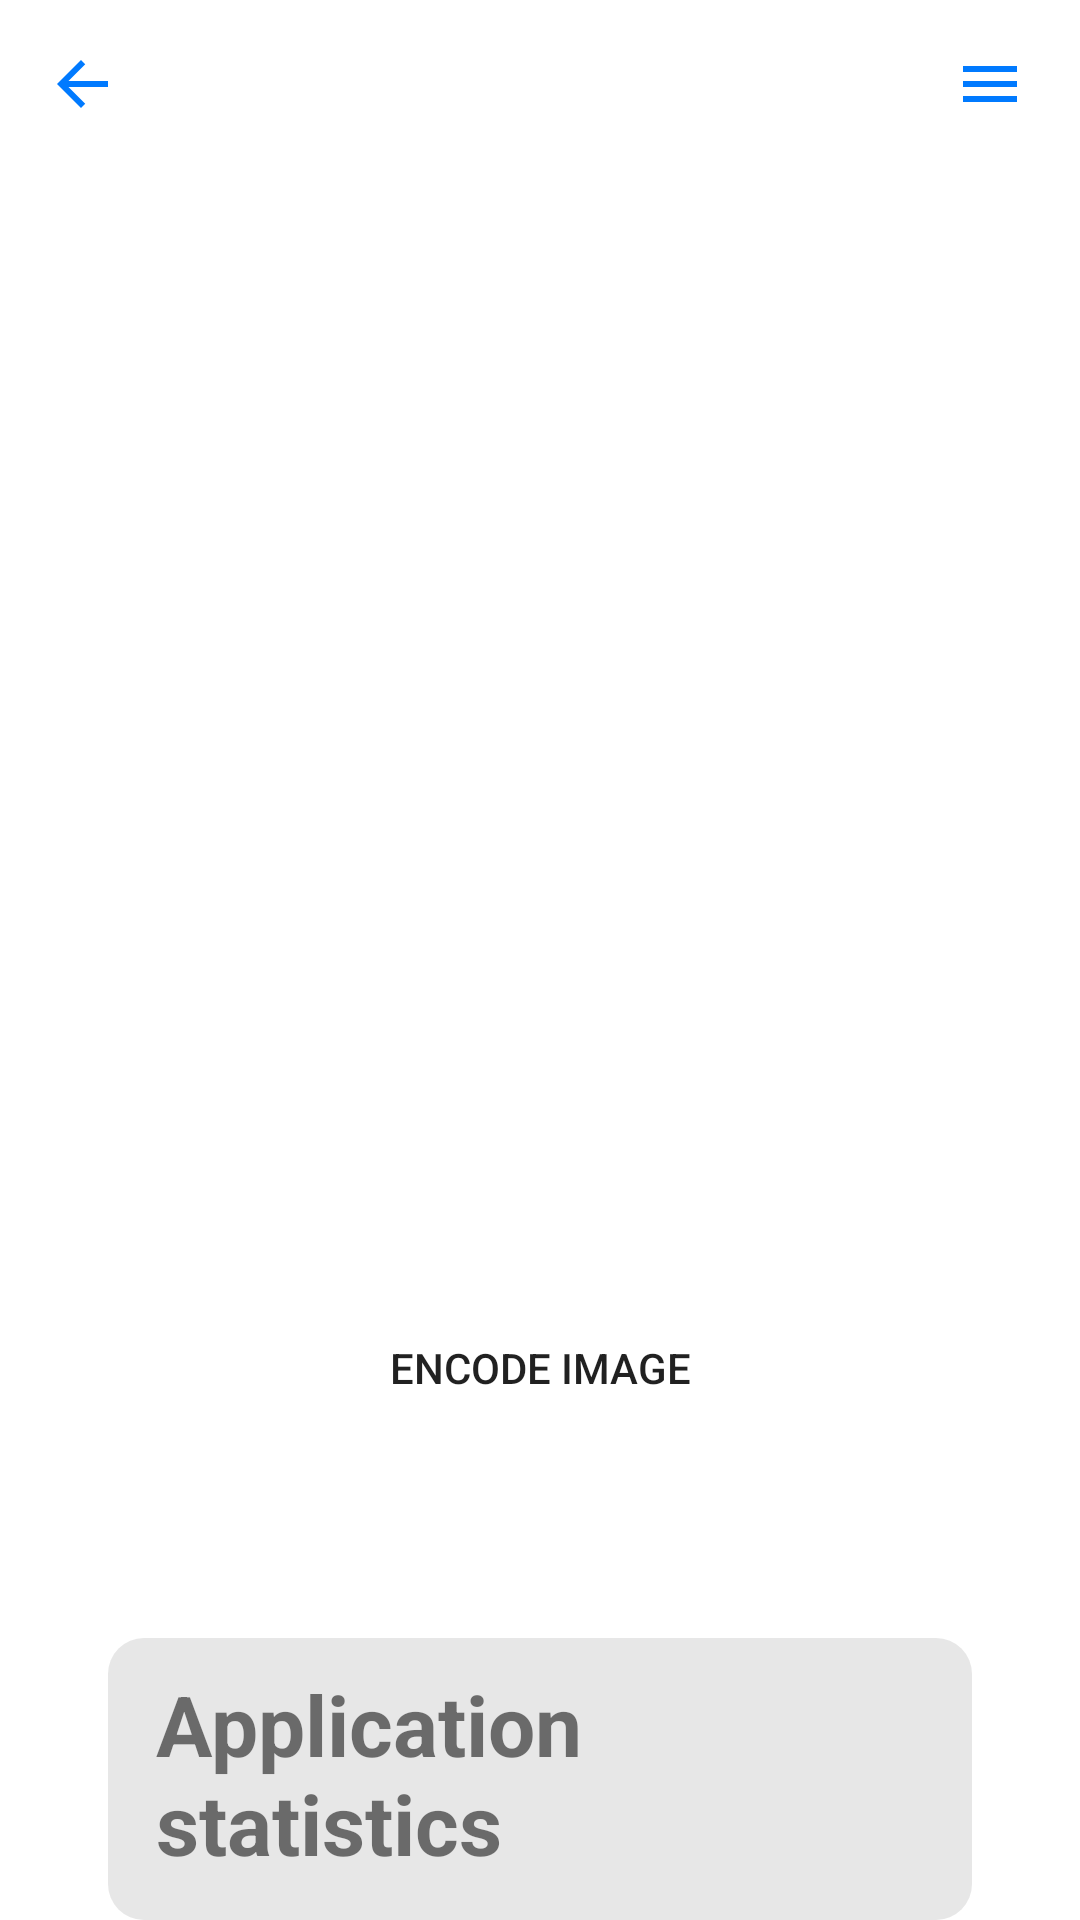

Point at icon controls on the screen. Image size 1080 × 1920, points as (x=x, y=y).
back: (x=82, y=84)
menu: (x=990, y=84)
